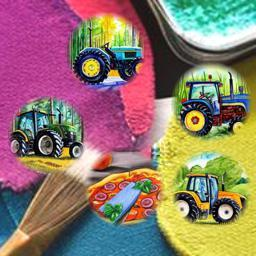something that can be eaten: (86, 167, 165, 226)
